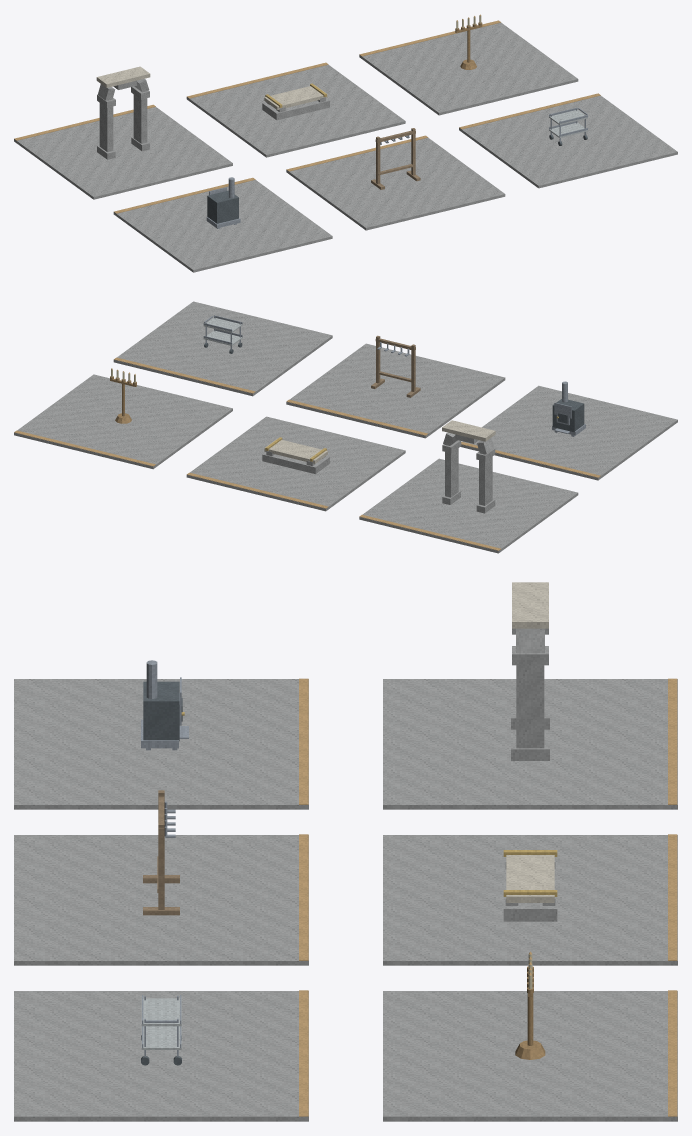
Rendered from level_blockout_kit_refined_p01.glb.
The picture shows the model from 3 angles, top to bottom: view 1: azimuth 30°, elevation 25°; view 2: azimuth 150°, elevation 25°; view 3: azimuth 270°, elevation 25°; orthographic projection. The views are drawn at different scales.
Parts seen in each view (by area): view 1: level_blockout_kit_refined_p01; view 2: level_blockout_kit_refined_p01; view 3: level_blockout_kit_refined_p01.
Boxes of the visible parts, x1,y1,x2,y2 form: level_blockout_kit_refined_p01: (14, 14, 677, 272); level_blockout_kit_refined_p01: (14, 301, 677, 553); level_blockout_kit_refined_p01: (14, 582, 677, 1121).
Size of the model in its own units: 19.65 by 3.03 by 12.6.
Materials: 10 (10 with a texture image).
